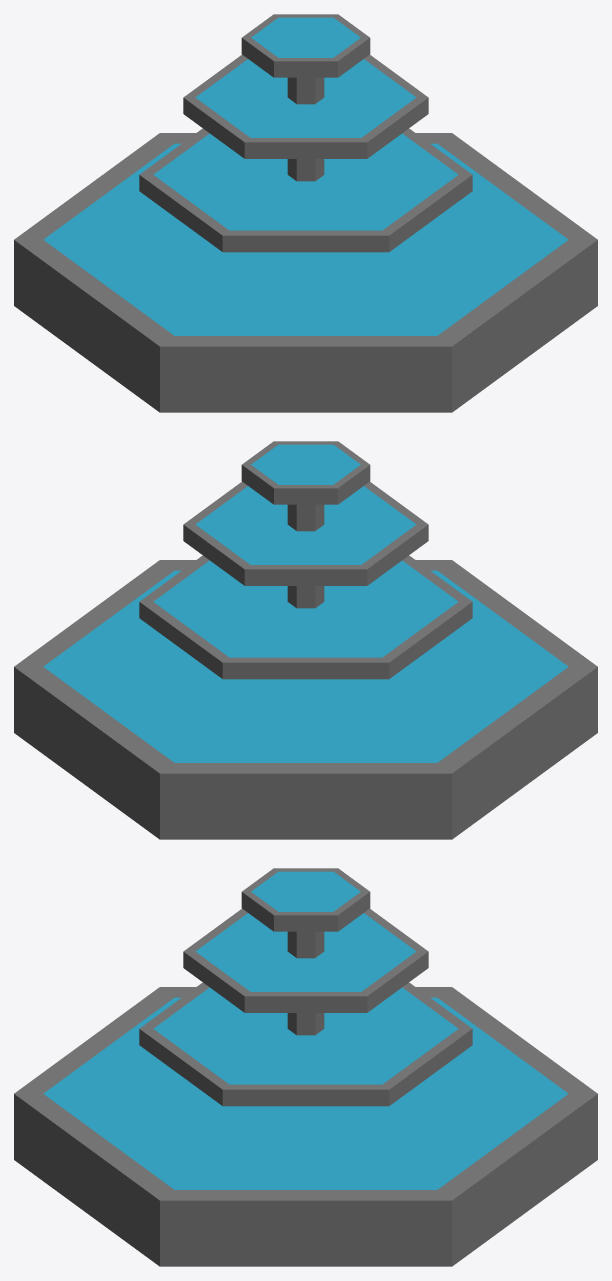
Rendered from Fountain02.fbx.
The picture shows the model from 3 angles, top to bottom: view 1: azimuth 30°, elevation 25°; view 2: azimuth 150°, elevation 25°; view 3: azimuth 270°, elevation 25°; orthographic projection.
Visible parts, largest first — view 1: Fountain02; view 2: Fountain02; view 3: Fountain02.
Part boxes in pixels (x1,y1,x2,y2): Fountain02: [14, 14, 597, 412]; Fountain02: [14, 441, 597, 839]; Fountain02: [14, 868, 597, 1266].
Size of the model in its own units: 333 by 195 by 384.
